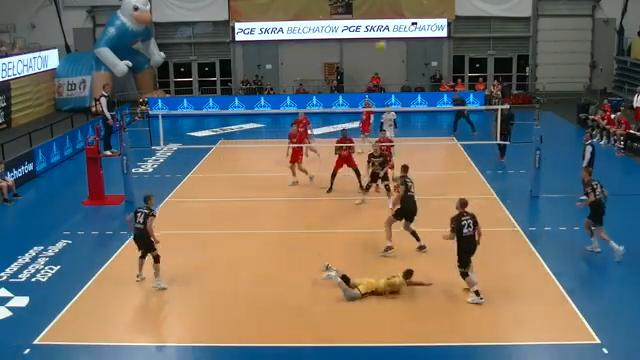difesa: (317, 259, 440, 304)
